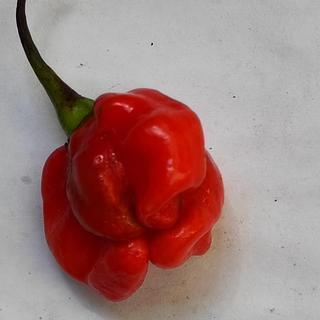Grade-B: (32, 83, 229, 302)
